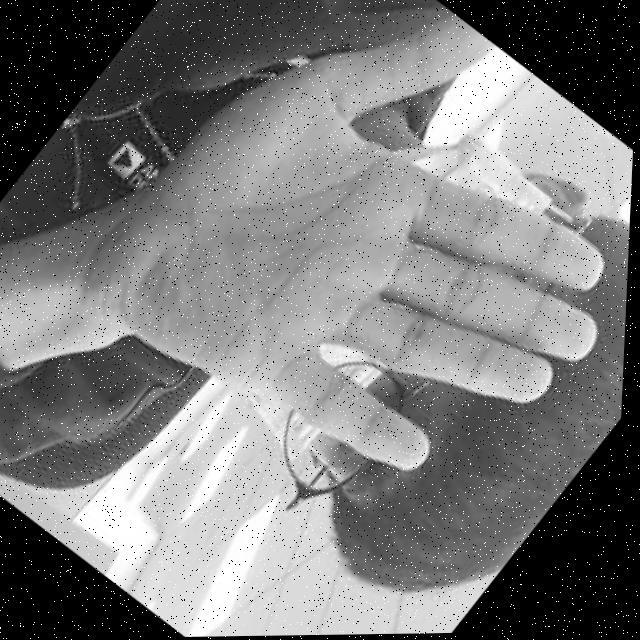no-gloves: (61, 0, 640, 564)
